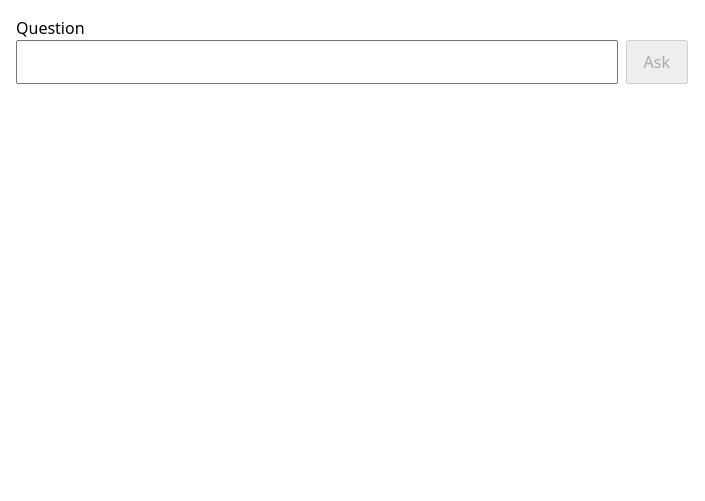
Test case: AskForm › submits through the form, which is what Enter does
In the field labelled "Question": (317, 62) [16,40,618,84], type "  What is alpha?  "
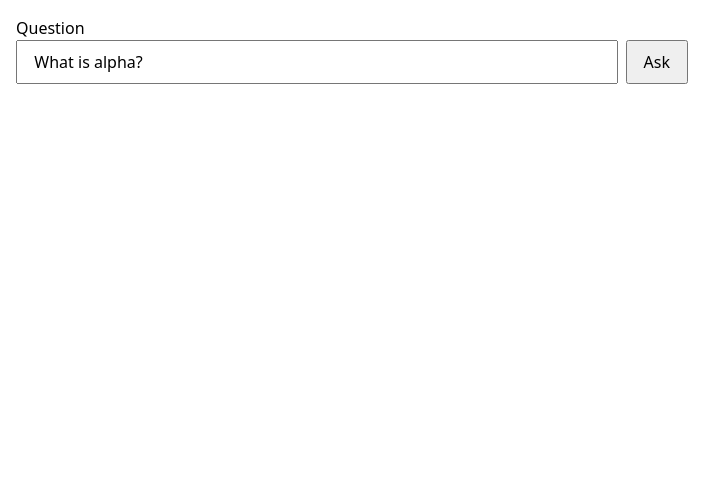
Submit the form labelled "Question", box [16,16,688,84]
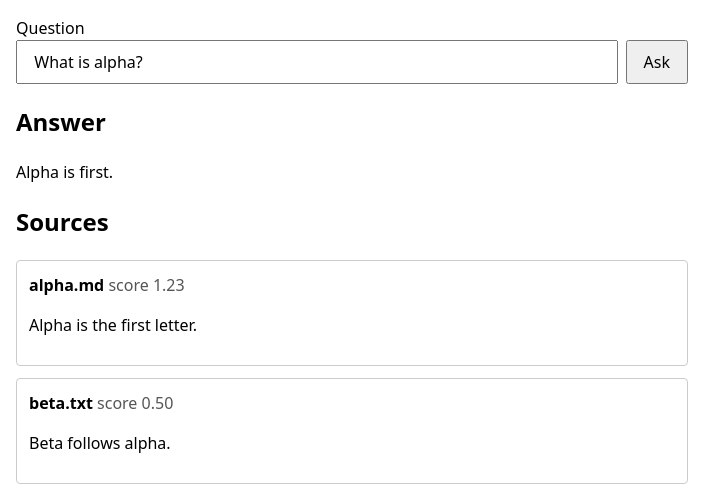
Now the text "Alpha is first." is shown, box [16,161,113,183]
